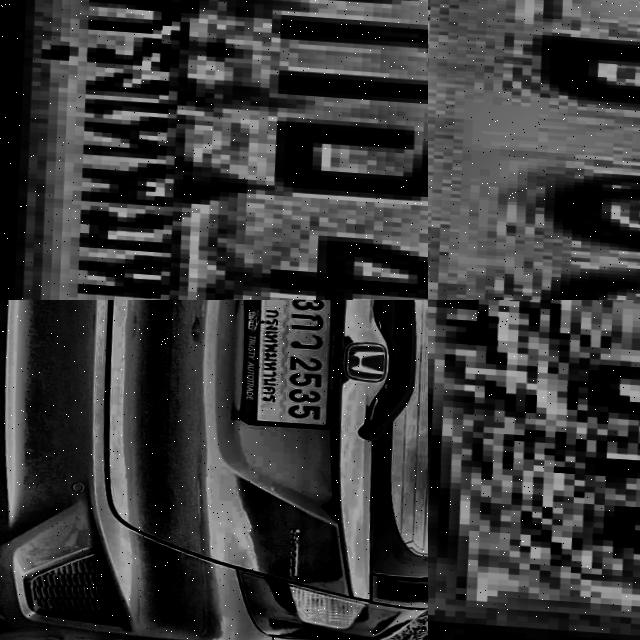license-plate: (0, 0, 428, 300), (428, 300, 640, 640), (428, 0, 640, 300), (227, 300, 347, 429)
